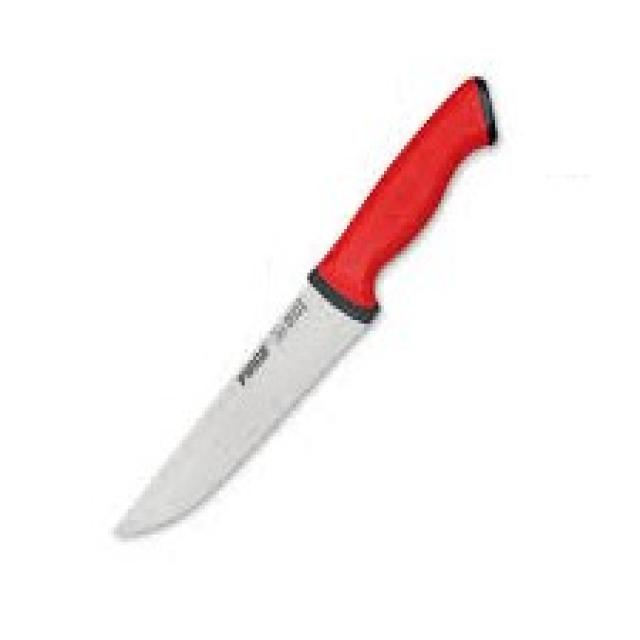knife: (111, 62, 507, 559)
